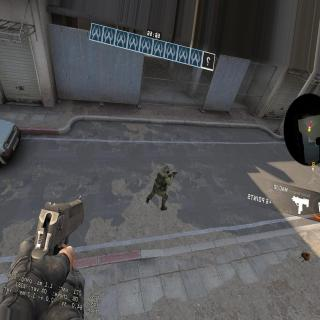CT-Body: (146, 163, 177, 210)
CT-Head: (162, 164, 172, 174)
